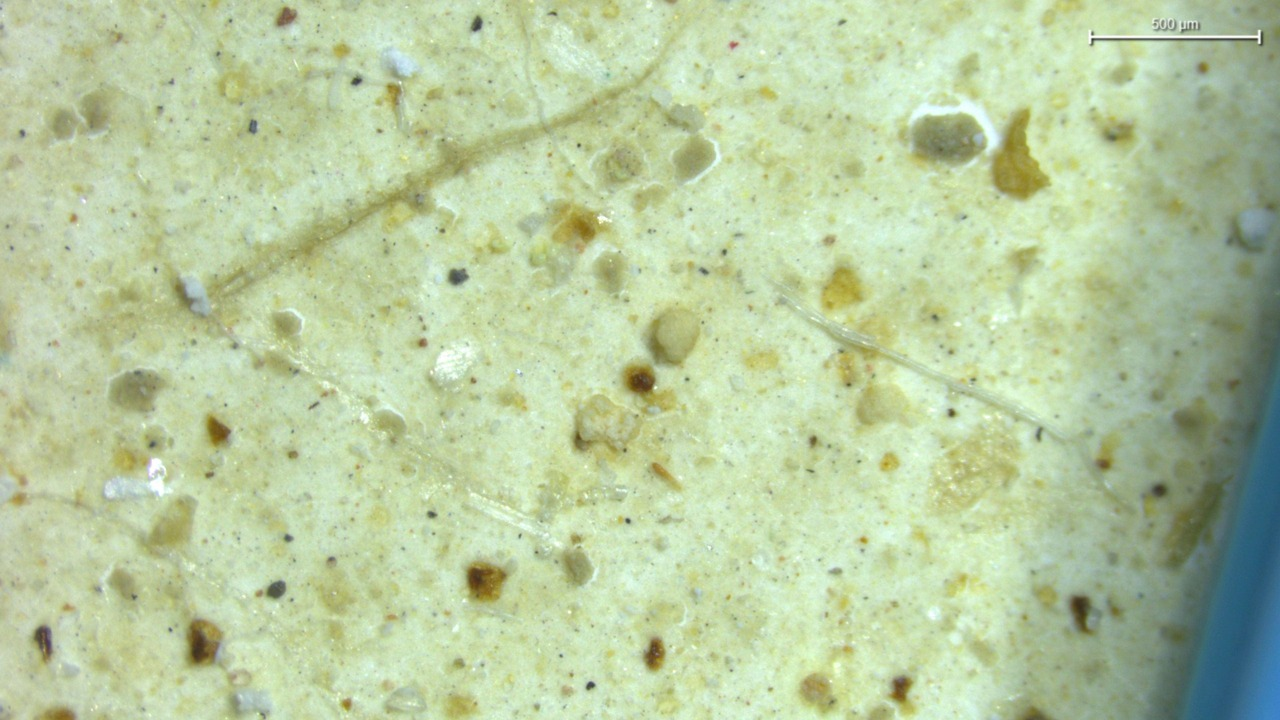microplastic_fragment: (575, 395, 641, 450), (648, 307, 701, 364), (180, 276, 210, 316), (381, 48, 419, 79), (667, 104, 705, 134)
